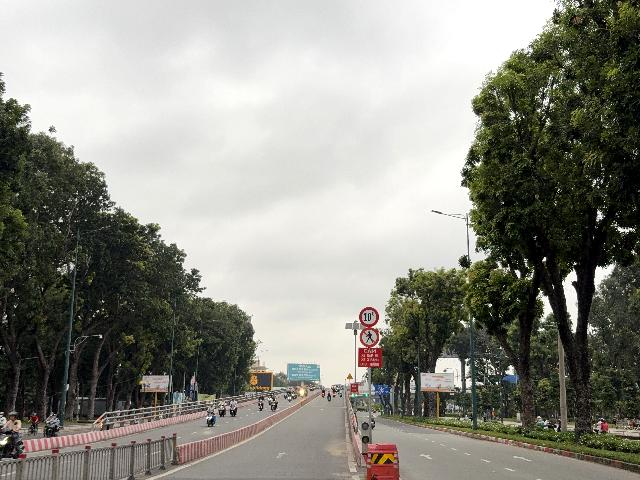cam-nguoi-di-bo: (360, 327, 379, 347)
han-che-trong-luong-xe: (359, 307, 379, 327)
